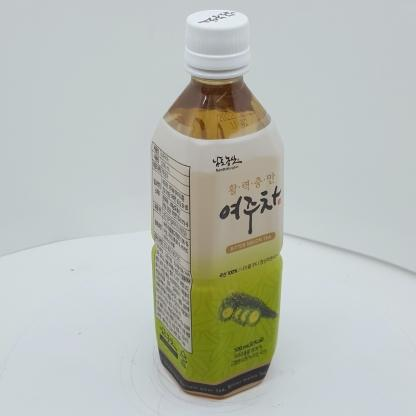-----------500ML: (150, 9, 285, 398)
